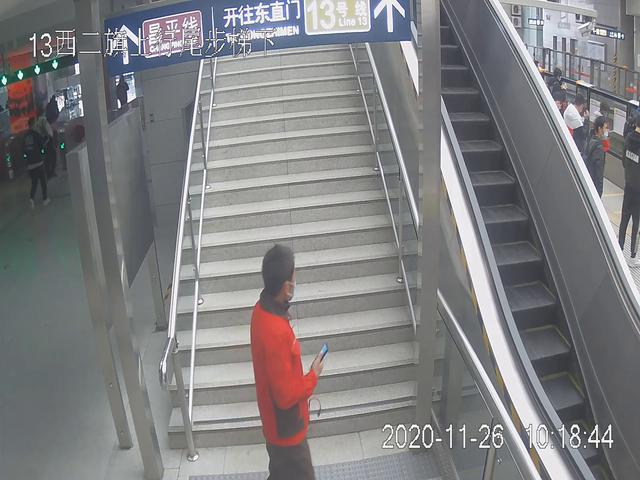person: (249, 240, 329, 480)
